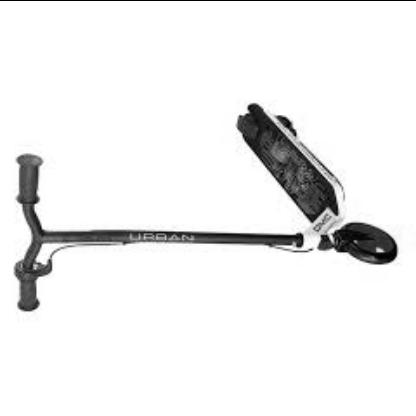bike: (12, 102, 399, 316)
